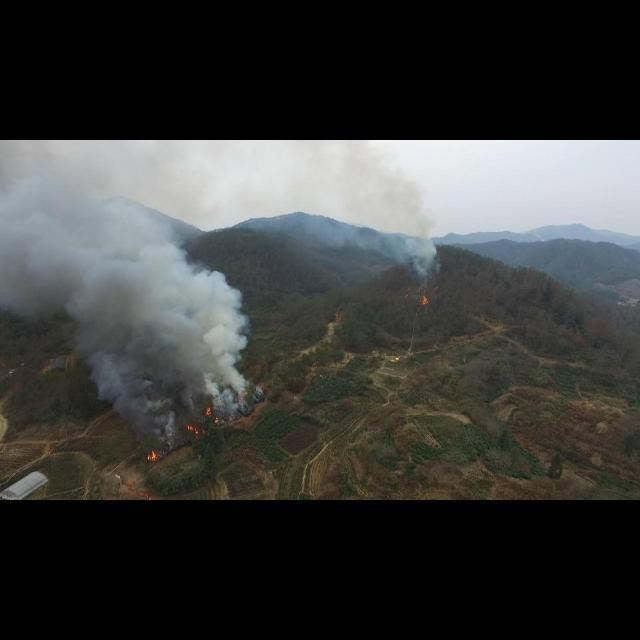Fire: (205, 407, 219, 425), (147, 449, 161, 461), (186, 424, 200, 436), (421, 294, 429, 306)
Smoke: (1, 141, 265, 451), (288, 141, 442, 287)
